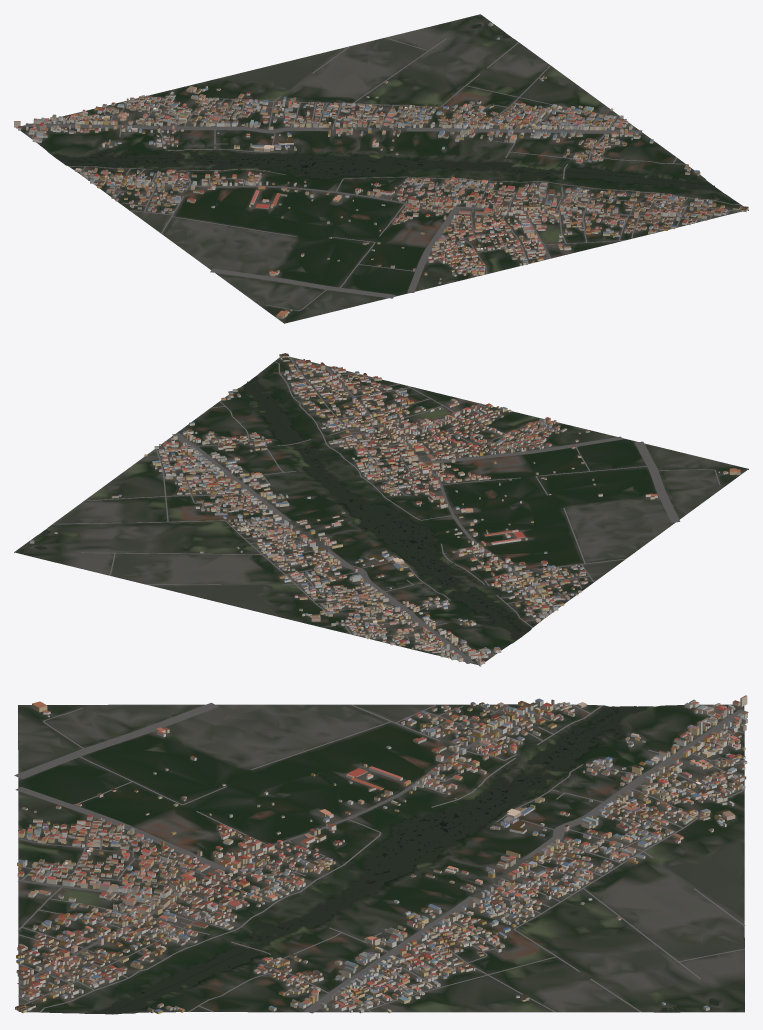
The picture shows the model from 3 angles, top to bottom: view 1: azimuth 30°, elevation 25°; view 2: azimuth 150°, elevation 25°; view 3: azimuth 270°, elevation 25°; orthographic projection. The views are drawn at different scales.
Visible parts, largest first — view 1: ground, buildings, roads, water; view 2: ground, buildings, roads, water; view 3: ground, buildings, roads, water.
Boxes of the visible parts, x1=… form: ground: x1=16, y1=14, x2=748, y2=323; buildings: x1=14, y1=22, x2=748, y2=318; roads: x1=25, y1=37, x2=741, y2=310; water: x1=50, y1=24, x2=721, y2=191; ground: x1=14, y1=357, x2=748, y2=664; buildings: x1=30, y1=353, x2=740, y2=666; roads: x1=52, y1=356, x2=720, y2=663; water: x1=34, y1=376, x2=528, y2=641; ground: x1=18, y1=704, x2=744, y2=1014; buildings: x1=15, y1=695, x2=747, y2=1013; roads: x1=14, y1=702, x2=748, y2=1013; water: x1=90, y1=706, x2=719, y2=1014.
Size of the model in its own units: 1420 by 33.79 by 1418.
